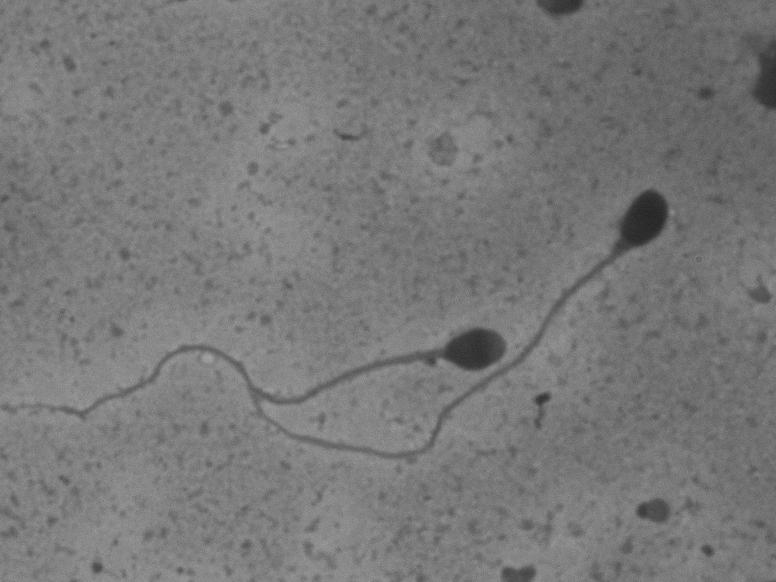Normal: (246, 171, 679, 471), (4, 308, 514, 432)
